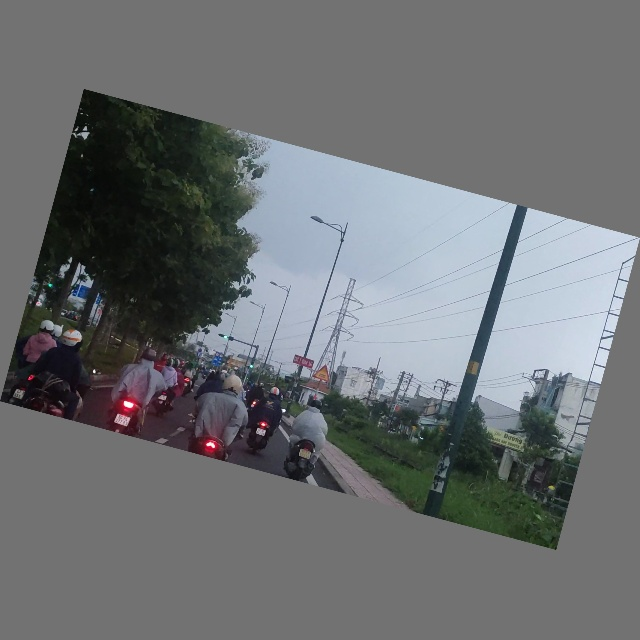W.210: (312, 363, 334, 383)
